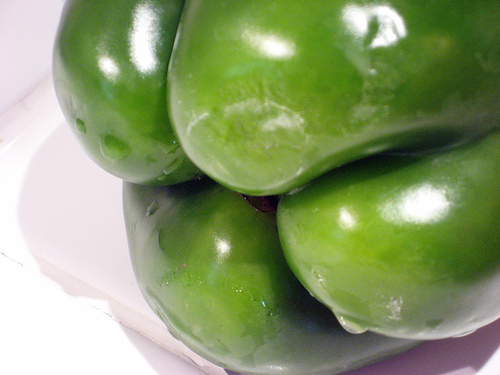capsicum: (51, 1, 499, 374)
